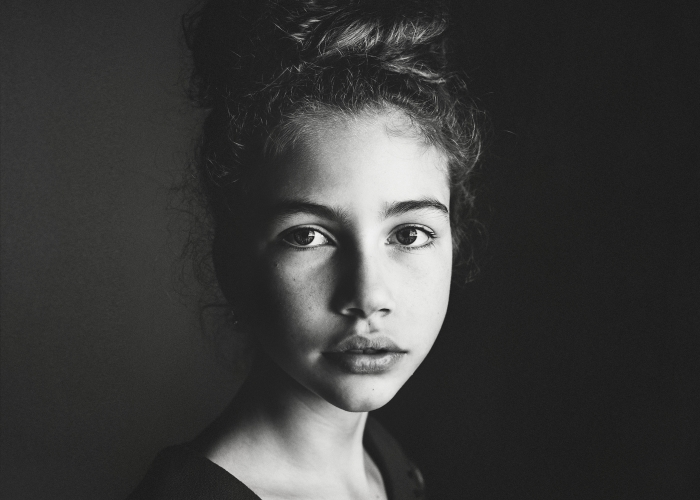eyes: (275, 222, 338, 253), (385, 223, 440, 251)
mouth: (321, 332, 413, 376)
nose: (336, 240, 396, 321)
